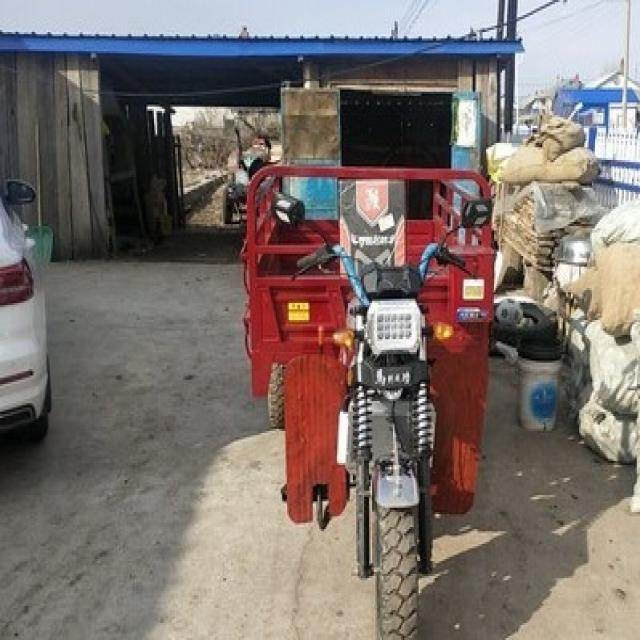car: (0, 172, 51, 437)
tricycle: (237, 160, 494, 634)
